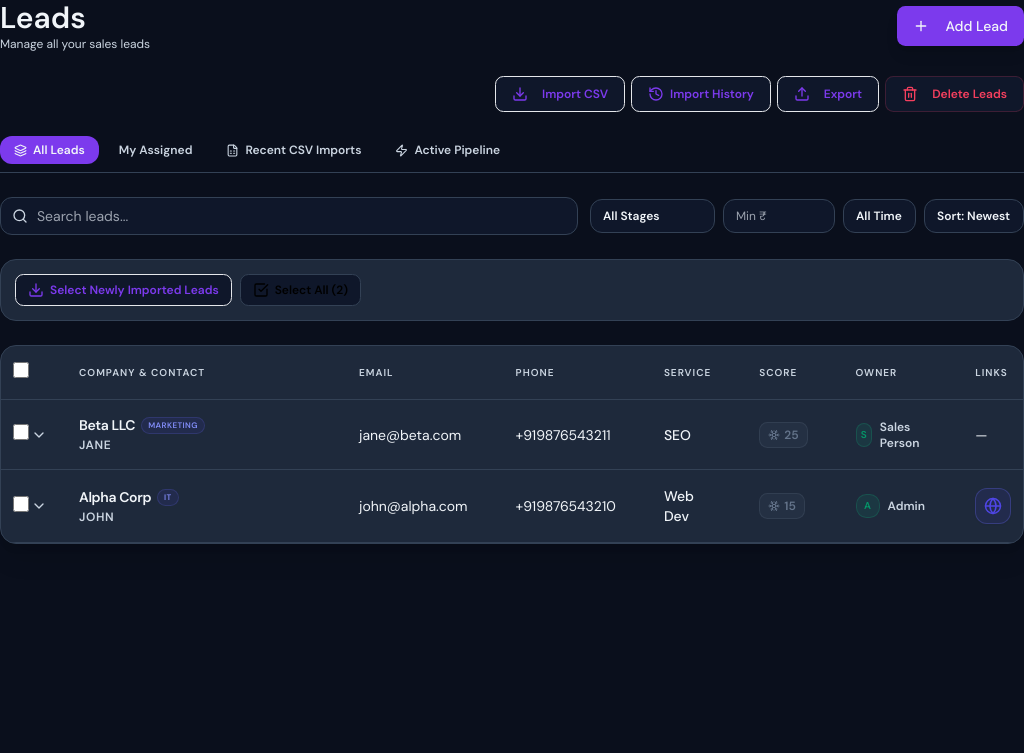
CRMLeads › opens add lead modal when clicking Add Lead
What coordinates should you click on to do the following:
click the text "Add Lead"
I would click on:
 (977, 26)
Its box is [946,16,1008,36].
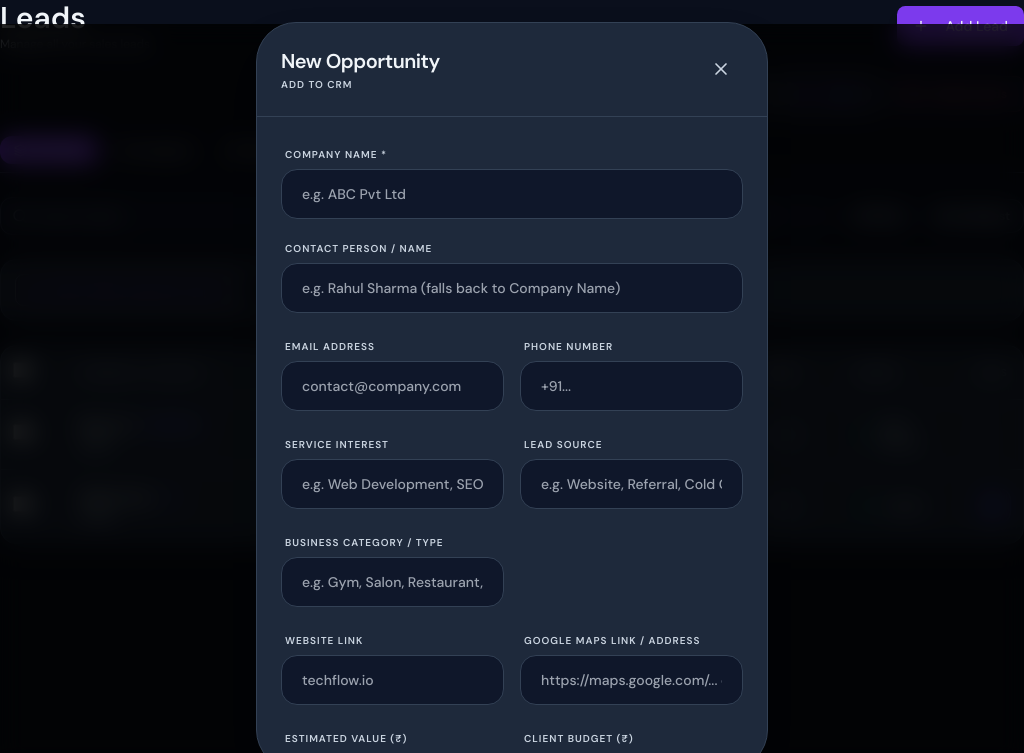
Expected: the heading "New Opportunity" is shown, [281,47,440,75]
